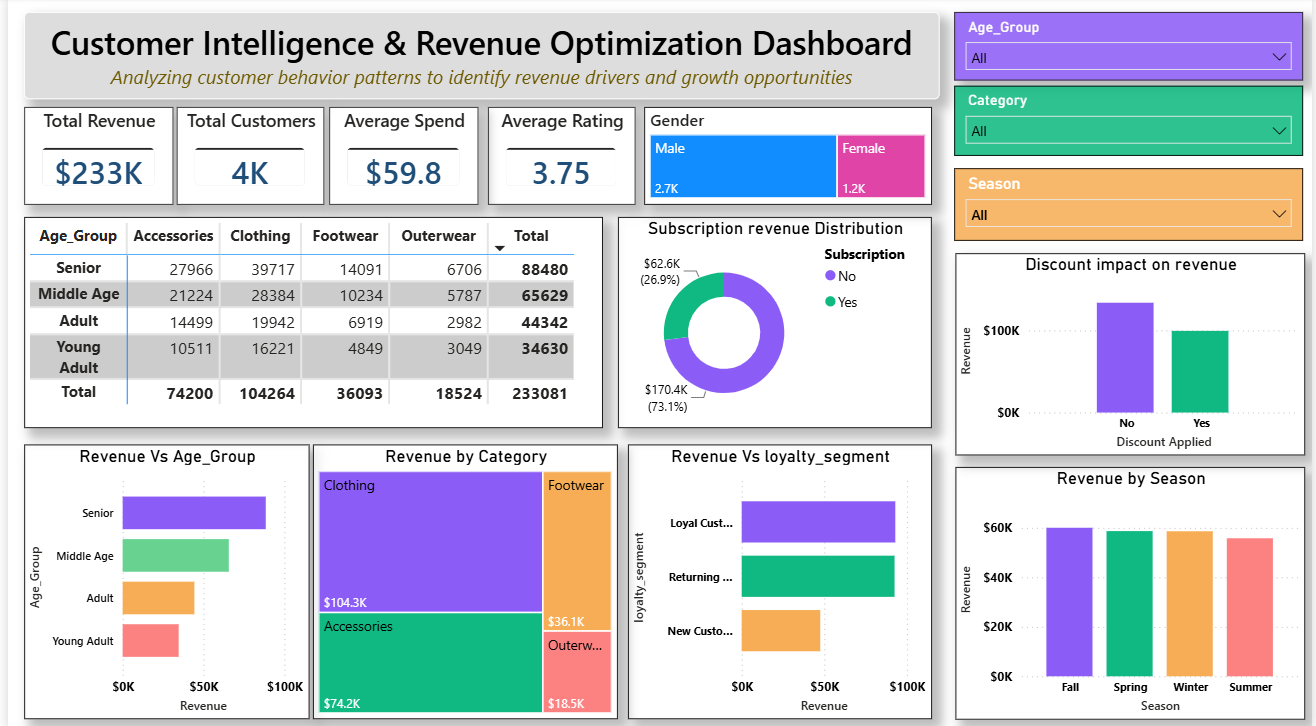

This screenshot's page, from the dashboard's own definition file:
{"tool":"powerbi","page":{"name":"Page 1","canvas":[1280,720],"ordinal":0},"visuals":[{"type":"textbox","box":[16,14.7,898.2,85.9],"z":0},{"type":"cardVisual","title":"Total Revenue","fields":{"Data":["customer_behavior_final.Total Revenue"]},"box":[16,108,146,95.7],"z":1000},{"type":"cardVisual","title":"Total Customers","fields":{"Data":["customer_behavior_final.Total Customers"]},"box":[165.6,108,144.8,95.7],"z":2000},{"type":"cardVisual","title":"Average Rating","fields":{"Data":["customer_behavior_final.Average Rating"]},"box":[471.2,108,144.8,95.7],"z":3000},{"type":"cardVisual","title":"Average Spend","fields":{"Data":["customer_behavior_final.Average Spend"]},"box":[315.3,108,146,95.7],"z":4000},{"type":"clusteredColumnChart","title":"Revenue by Season","fields":{"Y":["Sum(customer_behavior_final.Purchase Amount (USD))"],"Category":["customer_behavior_final.Season"]},"box":[930.1,461.4,343.6,247.9],"z":5000},{"type":"clusteredBarChart","title":"Revenue Vs Age_Group","fields":{"Category":["customer_behavior_final.Age_Group"],"Y":["Sum(customer_behavior_final.Purchase Amount (USD))"]},"box":[16,439.3,279.8,269.9],"z":6000},{"type":"clusteredBarChart","title":"Revenue Vs loyalty_segment","fields":{"Category":["customer_behavior_final.loyalty_segment"],"Y":["Sum(customer_behavior_final.Purchase Amount (USD))"]},"box":[608.6,439.3,298.2,269.9],"z":7000},{"type":"donutChart","title":"Subscription revenue Distribution","fields":{"Category":["customer_behavior_final.Subscription Status"],"Y":["Sum(customer_behavior_final.Purchase Amount (USD))"]},"box":[598.8,216,308,207.4],"z":8000},{"type":"clusteredColumnChart","title":"Discount impact on revenue","fields":{"Category":["customer_behavior_final.Discount Applied"],"Y":["Sum(customer_behavior_final.Purchase Amount (USD))"]},"box":[930.1,251.5,343.6,198.8],"z":9000},{"type":"pivotTable","fields":{"Rows":["customer_behavior_final.Age_Group"],"Columns":["customer_behavior_final.Category"],"Values":["Sum(customer_behavior_final.Purchase Amount (USD))"]},"box":[16,216,568.1,207.4],"z":10000},{"type":"slicer","fields":{"Values":["customer_behavior_final.Age_Group"]},"box":[928.8,14.7,342.3,67.5],"z":11000},{"type":"slicer","fields":{"Values":["customer_behavior_final.Category"]},"box":[928.8,87.1,342.3,68.7],"z":12000},{"type":"slicer","fields":{"Values":["customer_behavior_final.Season"]},"box":[928.8,168.1,342.3,71.2],"z":13000},{"type":"treemap","title":"Revenue by Category","fields":{"Group":["customer_behavior_final.Category"],"Values":["Sum(customer_behavior_final.Purchase Amount (USD))"]},"box":[299.4,439.3,299.4,269.9],"z":14000},{"type":"treemap","title":"Gender","fields":{"Group":["customer_behavior_final.Gender"],"Values":["CountNonNull(customer_behavior_final.Gender)"]},"box":[624.5,108,282.2,95.7],"z":15000}]}

Visuals, with their boxes in screenshot pixels (x1, y1, x2, y2), scaled from the page's 1280x720 canvas onto the 1316x726 screenshot:
textbox: 16, 15, 940, 101
"Total Revenue" cardVisual: 16, 109, 167, 205
"Total Customers" cardVisual: 170, 109, 319, 205
"Average Rating" cardVisual: 484, 109, 633, 205
"Average Spend" cardVisual: 324, 109, 474, 205
"Revenue by Season" clusteredColumnChart: 956, 465, 1310, 715
"Revenue Vs Age_Group" clusteredBarChart: 16, 443, 304, 715
"Revenue Vs loyalty_segment" clusteredBarChart: 626, 443, 932, 715
"Subscription revenue Distribution" donutChart: 616, 218, 932, 427
"Discount impact on revenue" clusteredColumnChart: 956, 254, 1310, 454
pivotTable - customer_behavior_final.Age_Group x customer_behavior_final.Category: 16, 218, 601, 427
slicer - customer_behavior_final.Age_Group: 955, 15, 1307, 83
slicer - customer_behavior_final.Category: 955, 88, 1307, 157
slicer - customer_behavior_final.Season: 955, 170, 1307, 241
"Revenue by Category" treemap: 308, 443, 616, 715
"Gender" treemap: 642, 109, 932, 205
